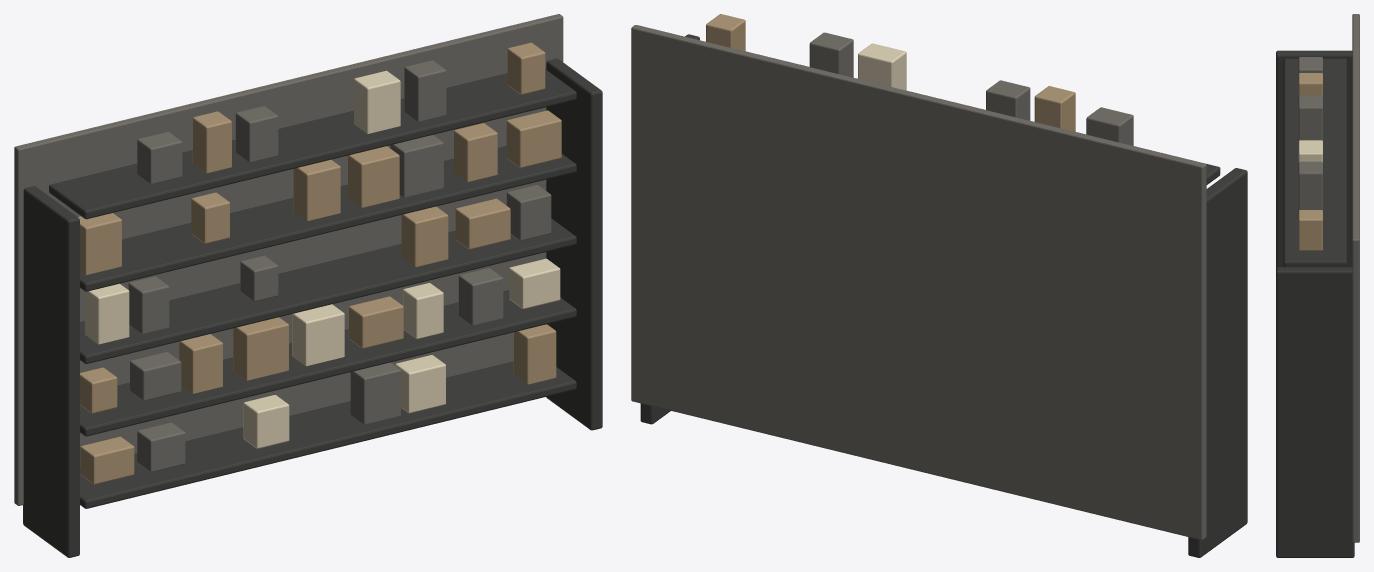
Rendered from dz_shelf_supermarket_loaded_A.glb.
The picture shows the model from 3 angles, left to right: view 1: azimuth 30°, elevation 25°; view 2: azimuth 150°, elevation 25°; view 3: azimuth 270°, elevation 25°; orthographic projection. The views are drawn at different scales.
Parts seen in each view (by area): view 1: back_shadow_panel, left_upright_bent, loaded_shelf_board_4, loaded_shelf_board_2, right_upright_bent, loaded_shelf_board_0, loaded_shelf_board_3, loaded_shelf_board_1, loaded_box_1_3, loaded_box_1_4, loaded_box_3_5, loaded_box_0_5 (+30 smaller); view 2: back_shadow_panel, left_upright_bent, loaded_box_4_5, loaded_box_4_6, loaded_box_4_2, loaded_box_4_3, loaded_box_4_1, loaded_box_4_8; view 3: right_upright_bent, loaded_shelf_board_4, back_shadow_panel, left_upright_bent, loaded_box_4_6, loaded_box_4_3, loaded_box_4_8, loaded_box_4_2, loaded_box_4_5, loaded_box_4_1.
Part boxes in pixels (x1,y1,x2,y2): back_shadow_panel: [14, 14, 563, 505]; left_upright_bent: [23, 186, 79, 557]; loaded_shelf_board_4: [49, 69, 576, 219]; loaded_shelf_board_2: [80, 218, 576, 363]; right_upright_bent: [546, 58, 602, 430]; loaded_shelf_board_0: [80, 361, 576, 508]; loaded_shelf_board_3: [80, 146, 576, 291]; loaded_shelf_board_1: [80, 290, 576, 436]; loaded_box_1_3: [233, 317, 288, 380]; loaded_box_1_4: [292, 304, 344, 366]; loaded_box_3_5: [348, 146, 399, 207]; loaded_box_0_5: [350, 362, 400, 424]; back_shadow_panel: [631, 25, 1206, 540]; left_upright_bent: [1188, 168, 1247, 557]; loaded_box_4_5: [858, 43, 906, 90]; loaded_box_4_6: [809, 32, 853, 77]; loaded_box_4_2: [1034, 86, 1075, 131]; loaded_box_4_3: [986, 80, 1030, 120]; loaded_box_4_1: [1086, 107, 1133, 145]; loaded_box_4_8: [706, 14, 745, 51]; right_upright_bent: [1276, 267, 1354, 557]; loaded_shelf_board_4: [1283, 58, 1346, 267]; back_shadow_panel: [1352, 14, 1359, 542]; left_upright_bent: [1276, 50, 1352, 268]; loaded_box_4_6: [1298, 161, 1322, 210]; loaded_box_4_3: [1298, 95, 1322, 140]; loaded_box_4_8: [1298, 210, 1322, 250]; loaded_box_4_2: [1298, 73, 1322, 96]; loaded_box_4_5: [1298, 140, 1322, 162]; loaded_box_4_1: [1298, 57, 1322, 73].
Bounding box in the file's own units: 3.55 × 2.39 × 0.555.
